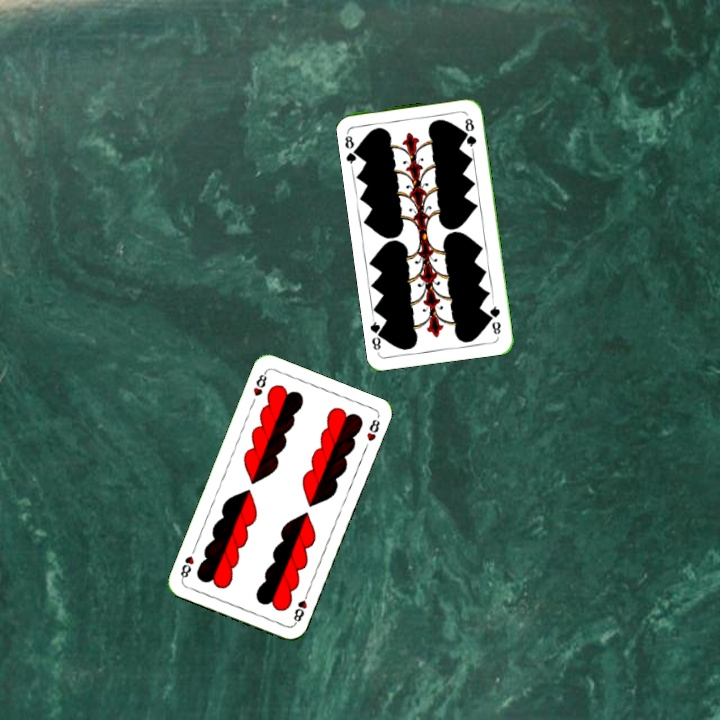G8: (341, 128, 363, 168), (485, 298, 503, 337)
H8: (289, 588, 311, 627), (249, 368, 269, 399)
